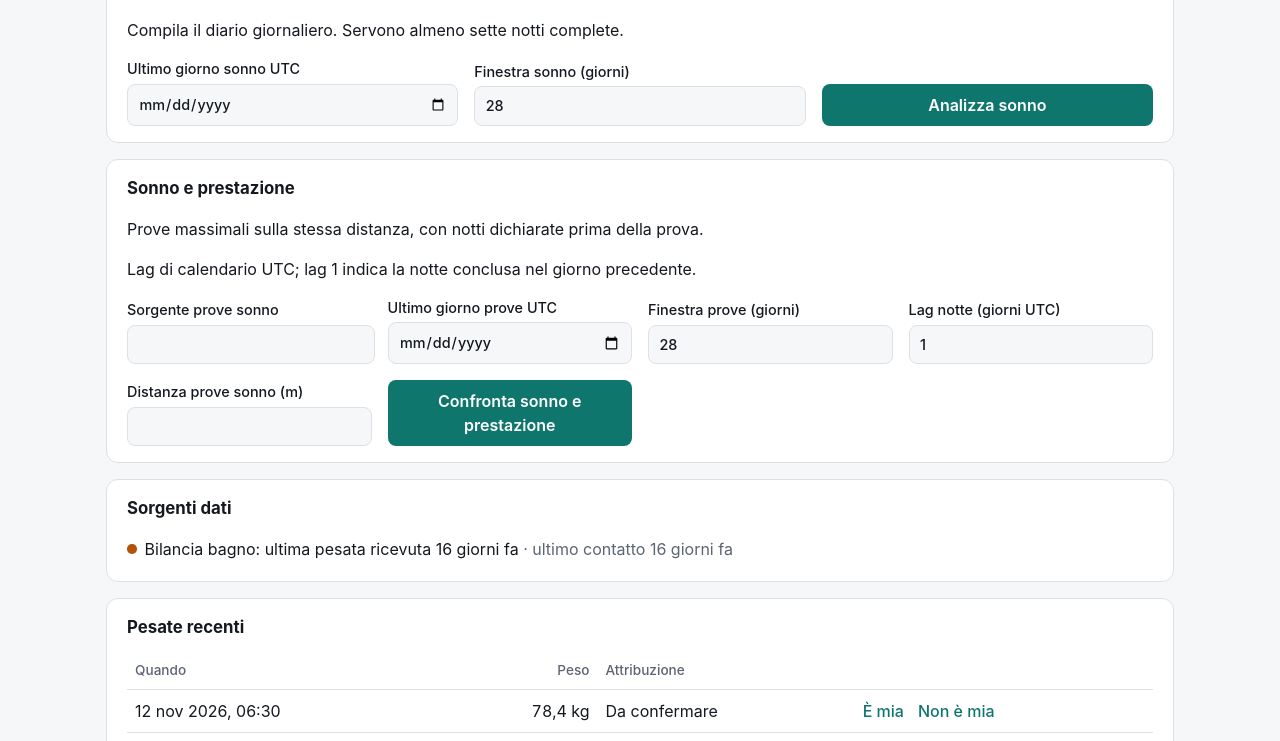
associazione sonno e prestazione › mostra coppie valide e mancanti senza attribuzione causale
(page scrolled)
Type "samsung-health" into the field labelled "Sorgente prove sonno" at (251, 344), box [127,324,375,364]
(page scrolled)
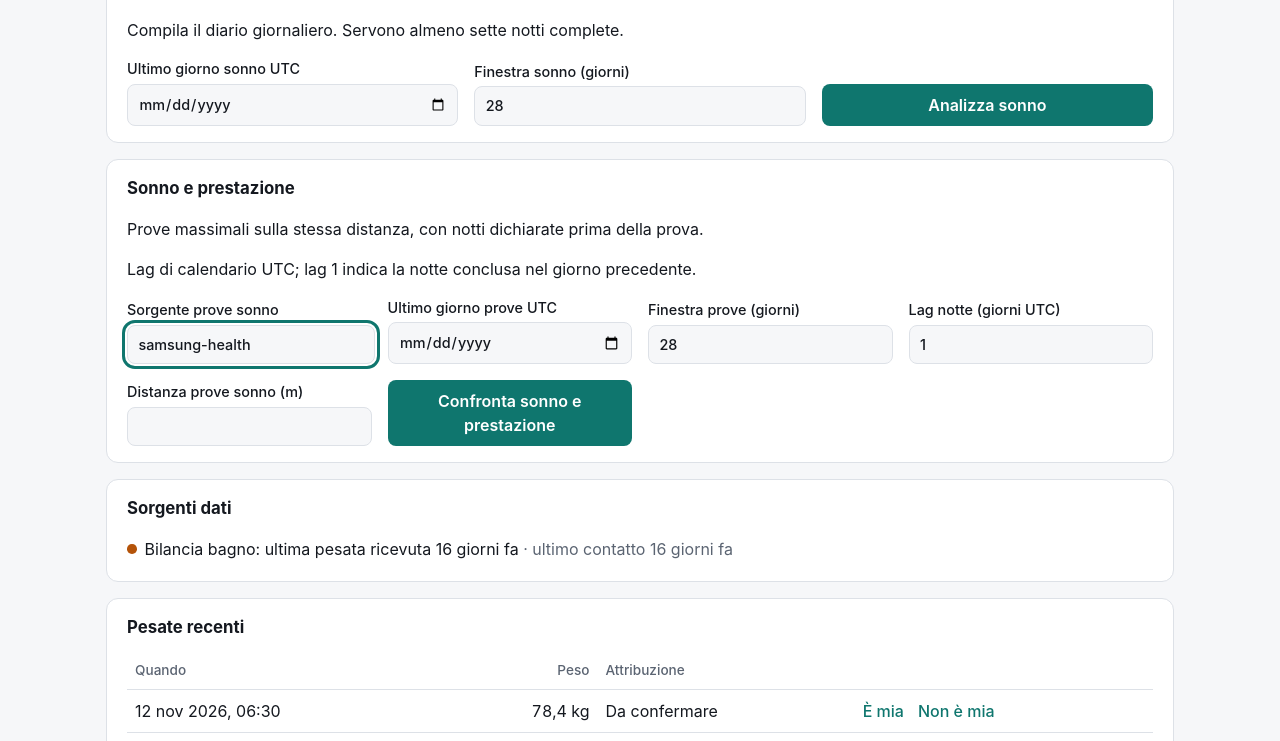
Type "2026-11-25" into the date field labelled "Ultimo giorno prove UTC" at (510, 343), box [388,322,632,364]
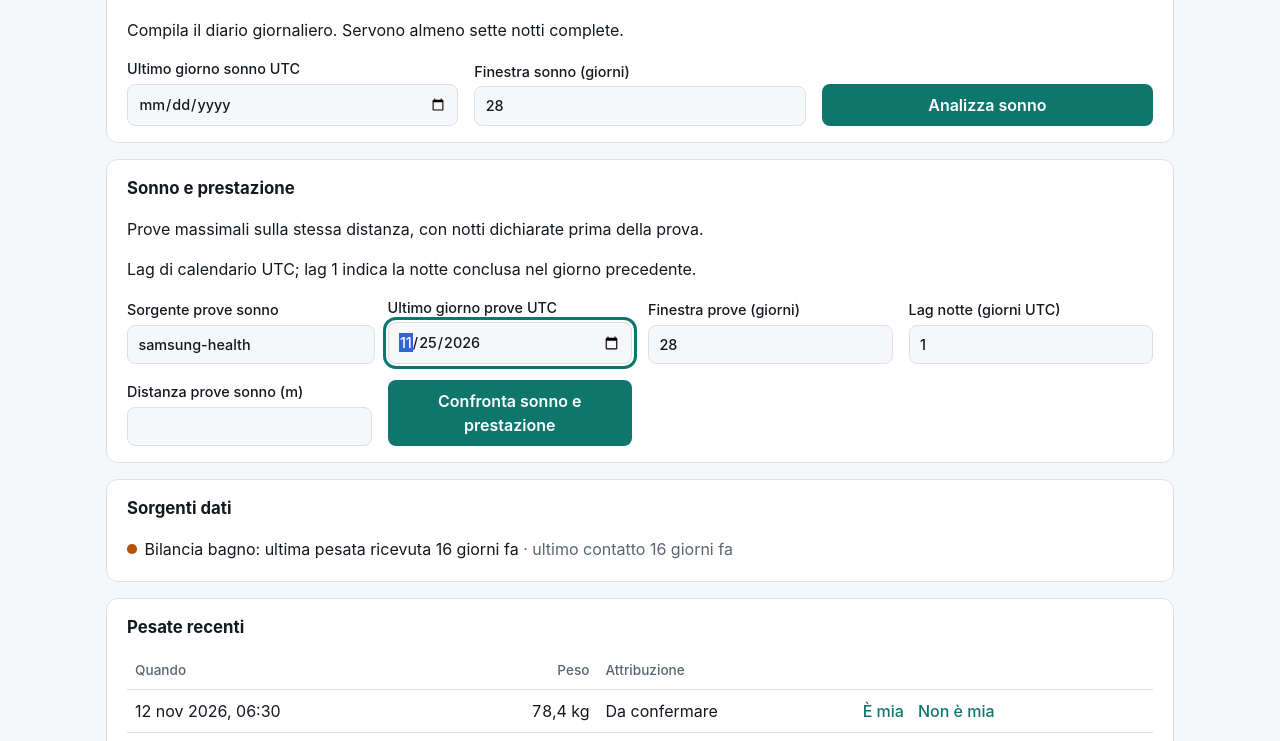
Type "5000" into the number field labelled "Distanza prove sonno (m)" at (249, 426), box [127,406,372,446]
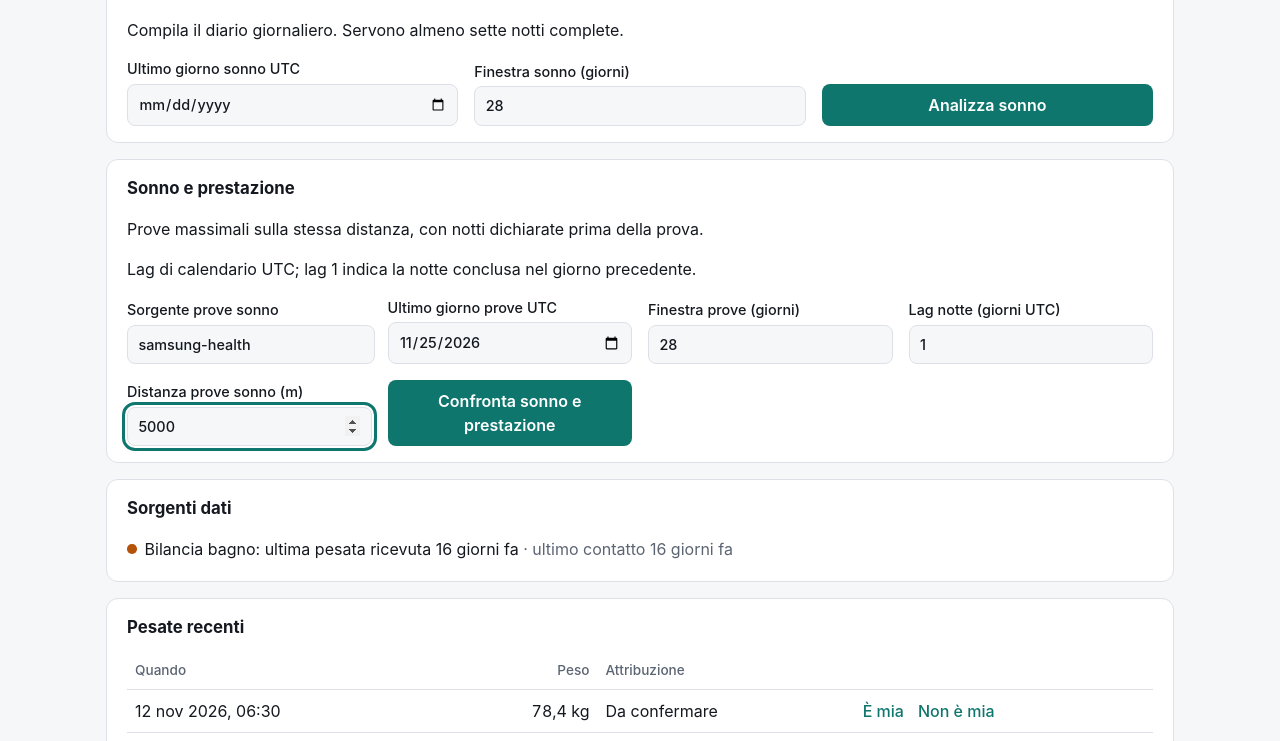
Click the button "Confronta sonno e prestazione" at (510, 413), box [388,380,632,446]
(page scrolled)
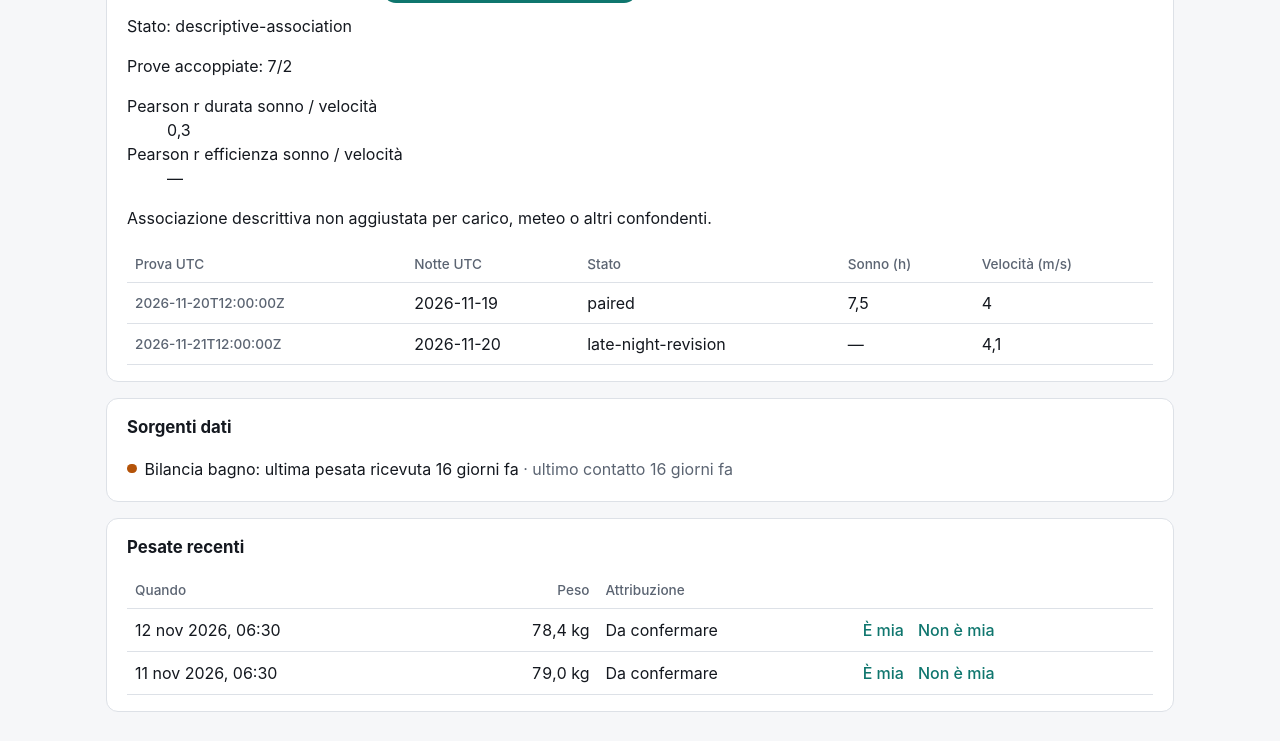
expect the text "0,3" is shown: met, box [167,120,191,140]
expect the text "late-night-revision" is shown: met, box [579,324,840,365]
